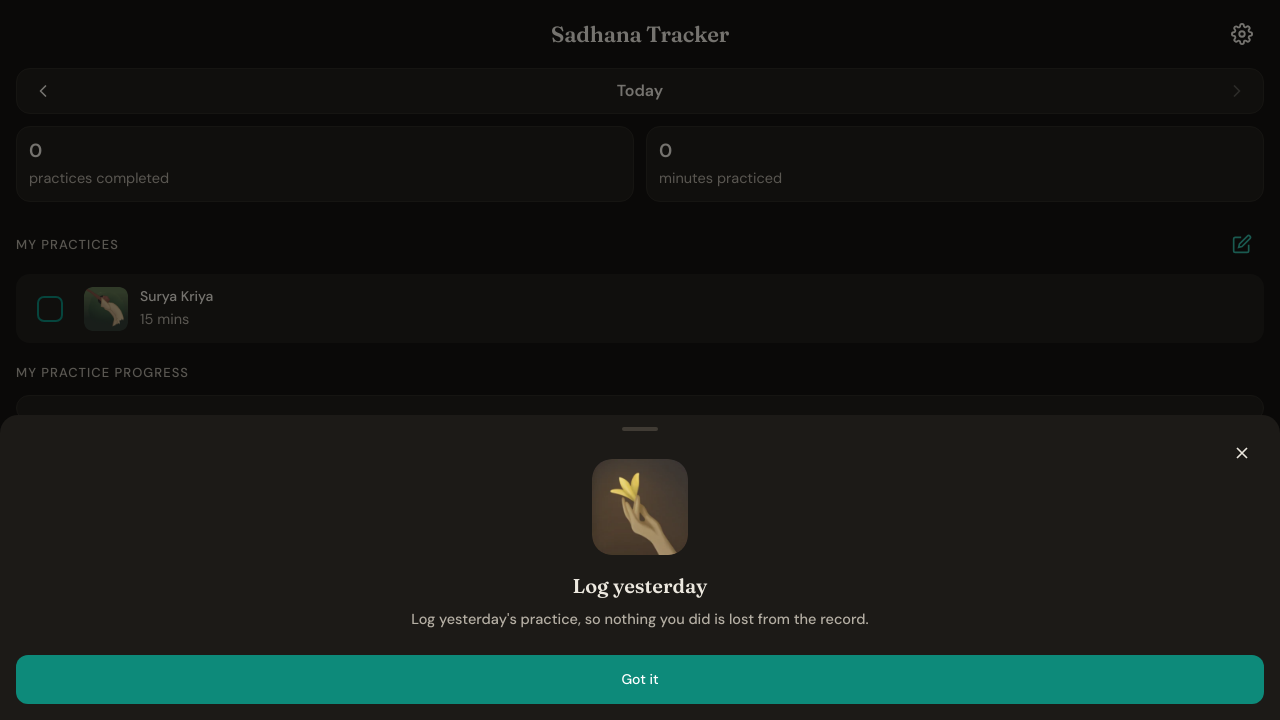
Test: Backtracking tip on practice home › records closing with ✕
The image size is (1280, 720).
Click the button named "Close" at (1242, 453), box [1220,431,1264,475]
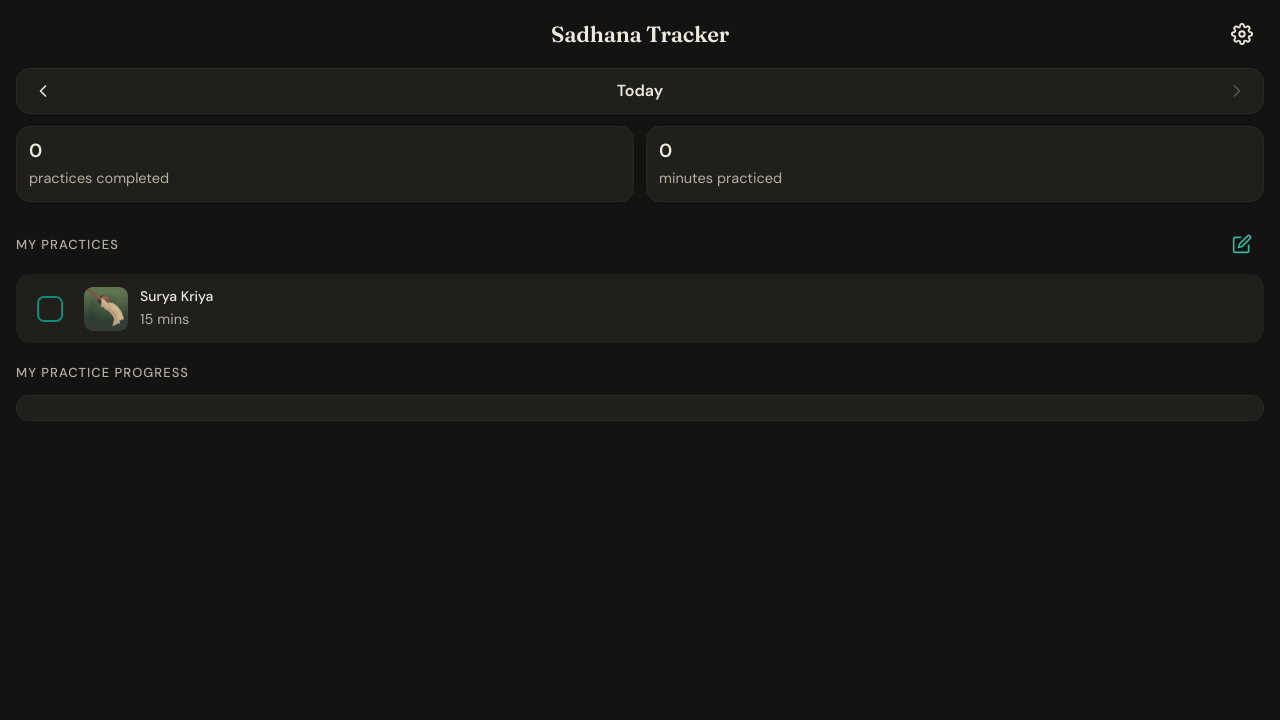
Check: the heading "Log yesterday" is gone
